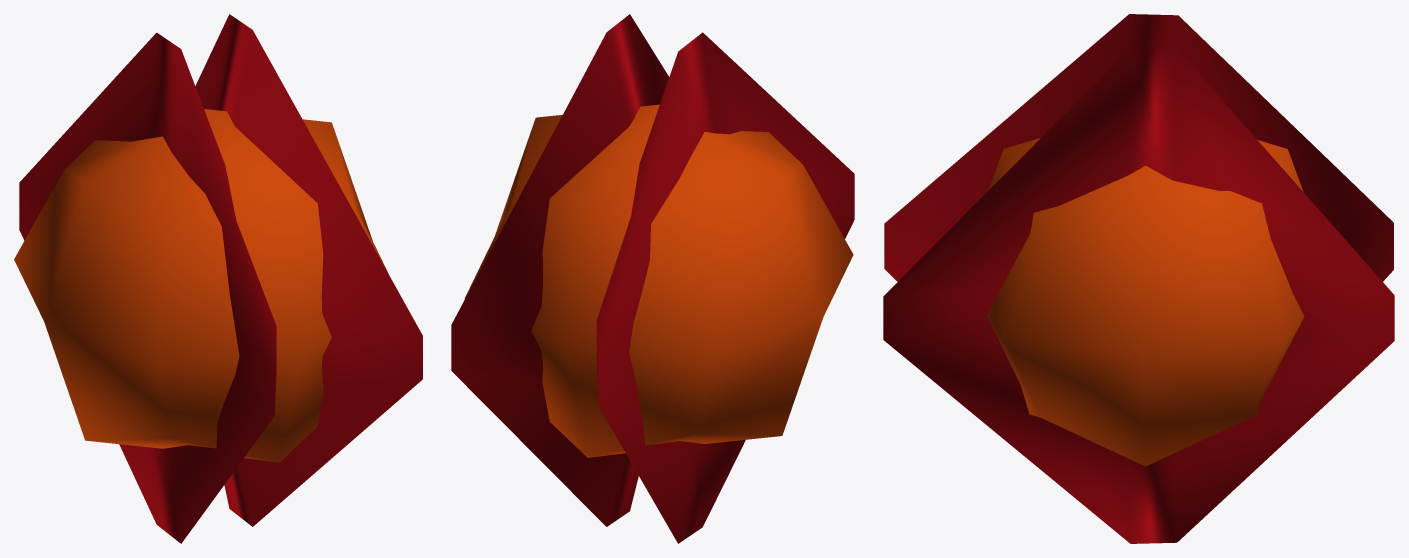
Rendered from bloodelf_powerorb_red.obj.
The picture shows the model from 3 angles, left to right: view 1: azimuth 30°, elevation 25°; view 2: azimuth 150°, elevation 25°; view 3: azimuth 270°, elevation 25°; orthographic projection.
Parts seen in each view (by area): view 1: Geoset2, Geoset4; view 2: Geoset2, Geoset4; view 3: Geoset4, Geoset2.
Part boxes in pixels (x1,y1,x2,y2): Geoset2: (14, 109, 388, 462); Geoset4: (19, 14, 422, 543); Geoset2: (464, 104, 853, 457); Geoset4: (451, 14, 854, 543); Geoset4: (883, 14, 1394, 543); Geoset2: (986, 138, 1304, 466).
Size of the model in its own units: 3.25 by 4.7 by 4.39.
Materials: 4 (4 with a texture image).
